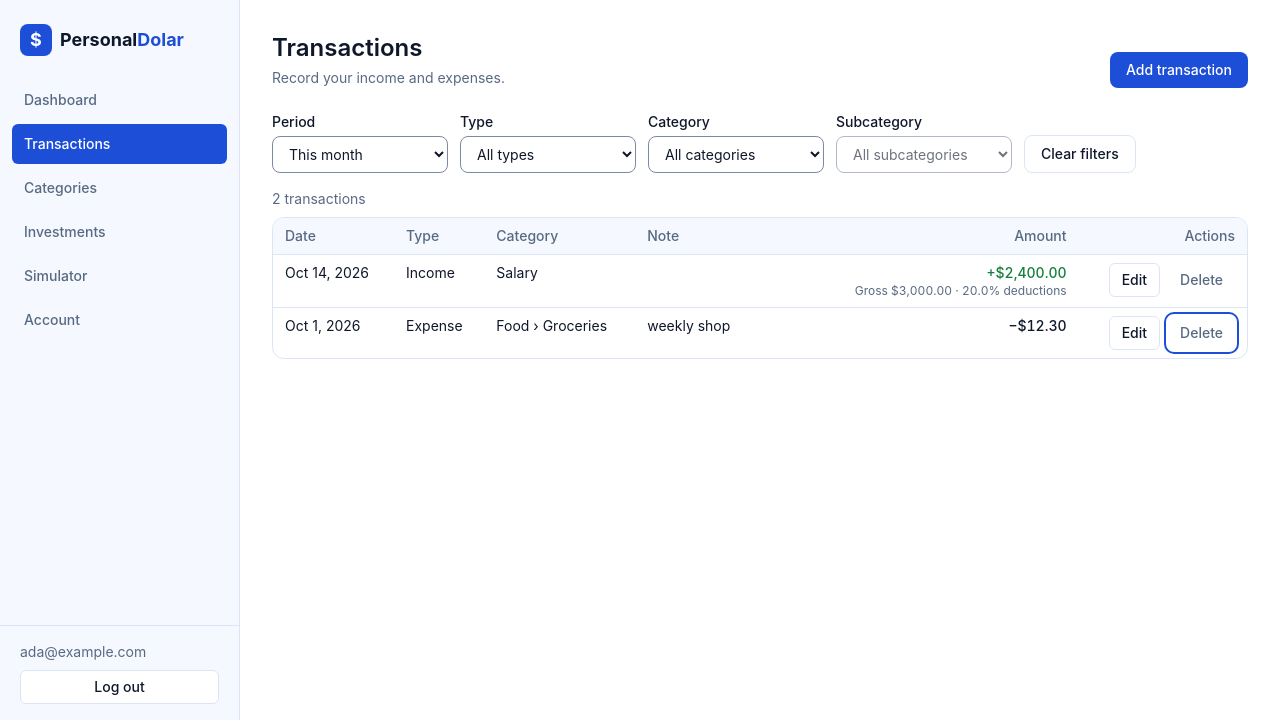
it: Delete transaction › closes on Cancel without a request and returns focus to the row
Expected: the table named "Transactions" is shown, [273,218,1247,358]
Click the button with aria-label "Delete Food › Groceries, Oct 1, 2026, −$12.30": (1202,333) [1168,316,1235,350]
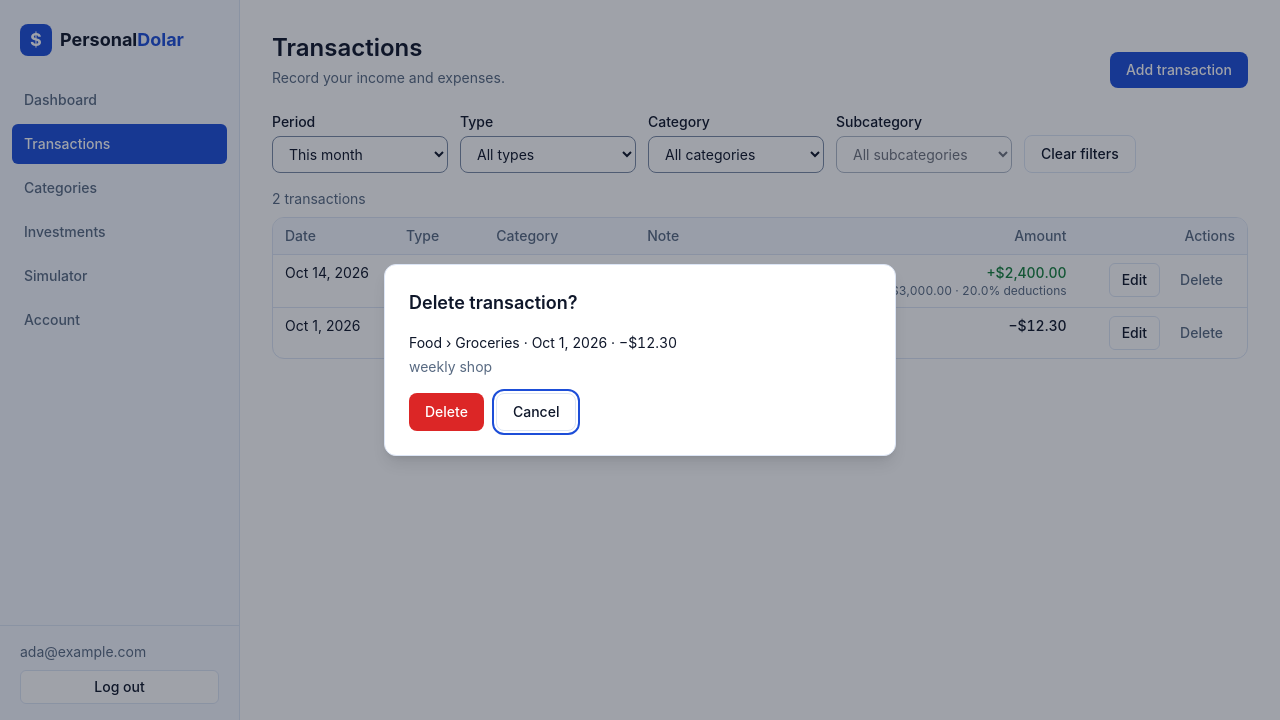
Click the button "Cancel": (536,412) [496,393,576,431]
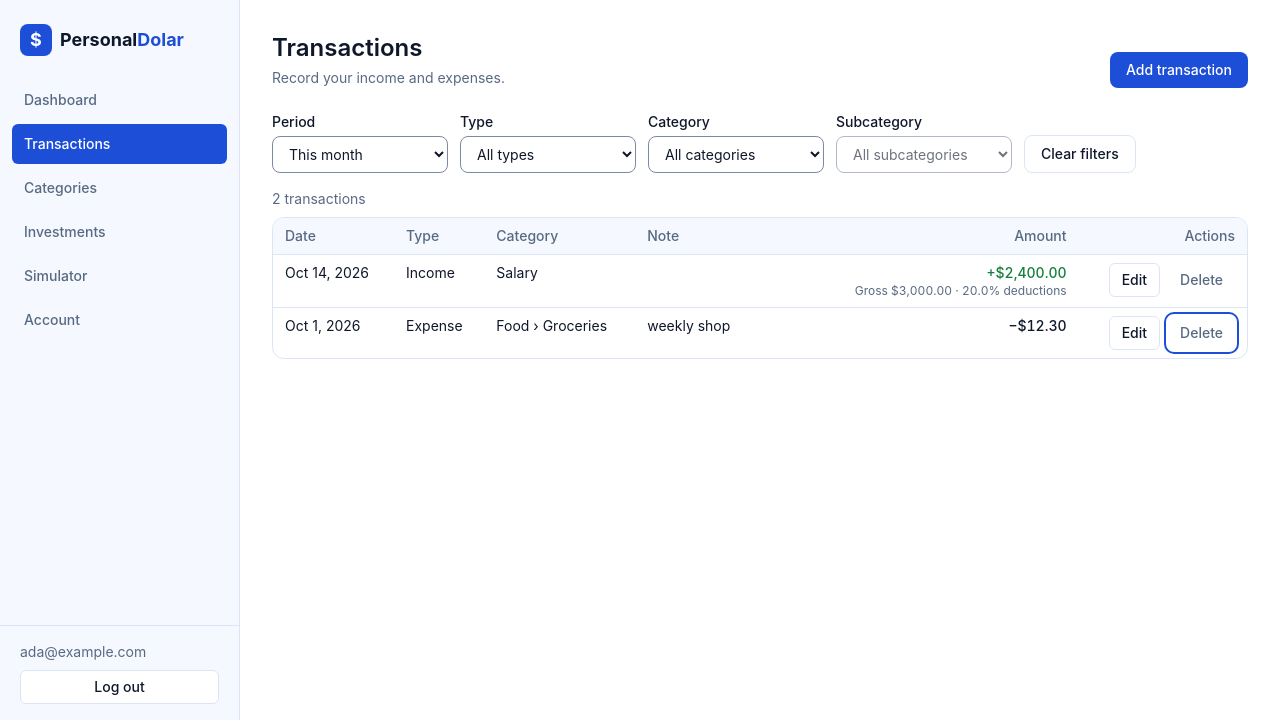
Expected: the dialog is gone
